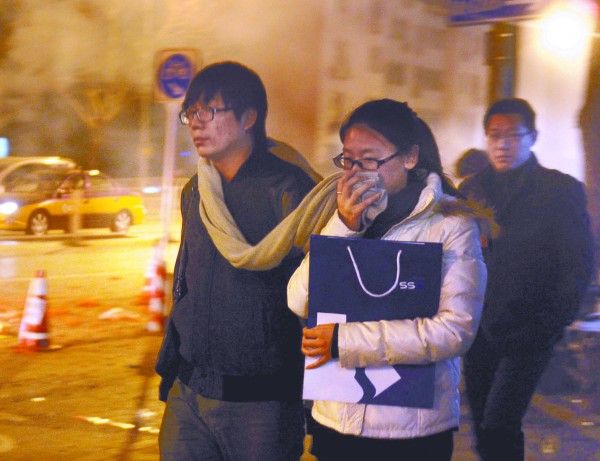face: (337, 130, 403, 199), (184, 89, 243, 155), (485, 114, 531, 170)
